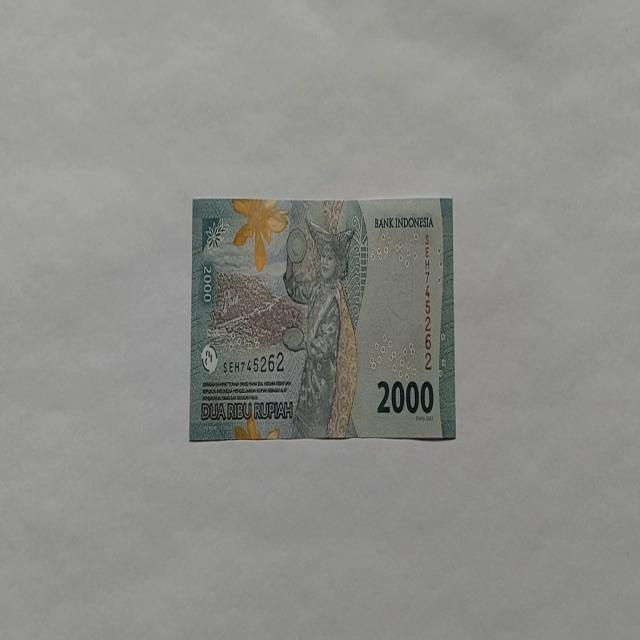dua ribu rupiah: (189, 195, 456, 442), (280, 216, 360, 438)
